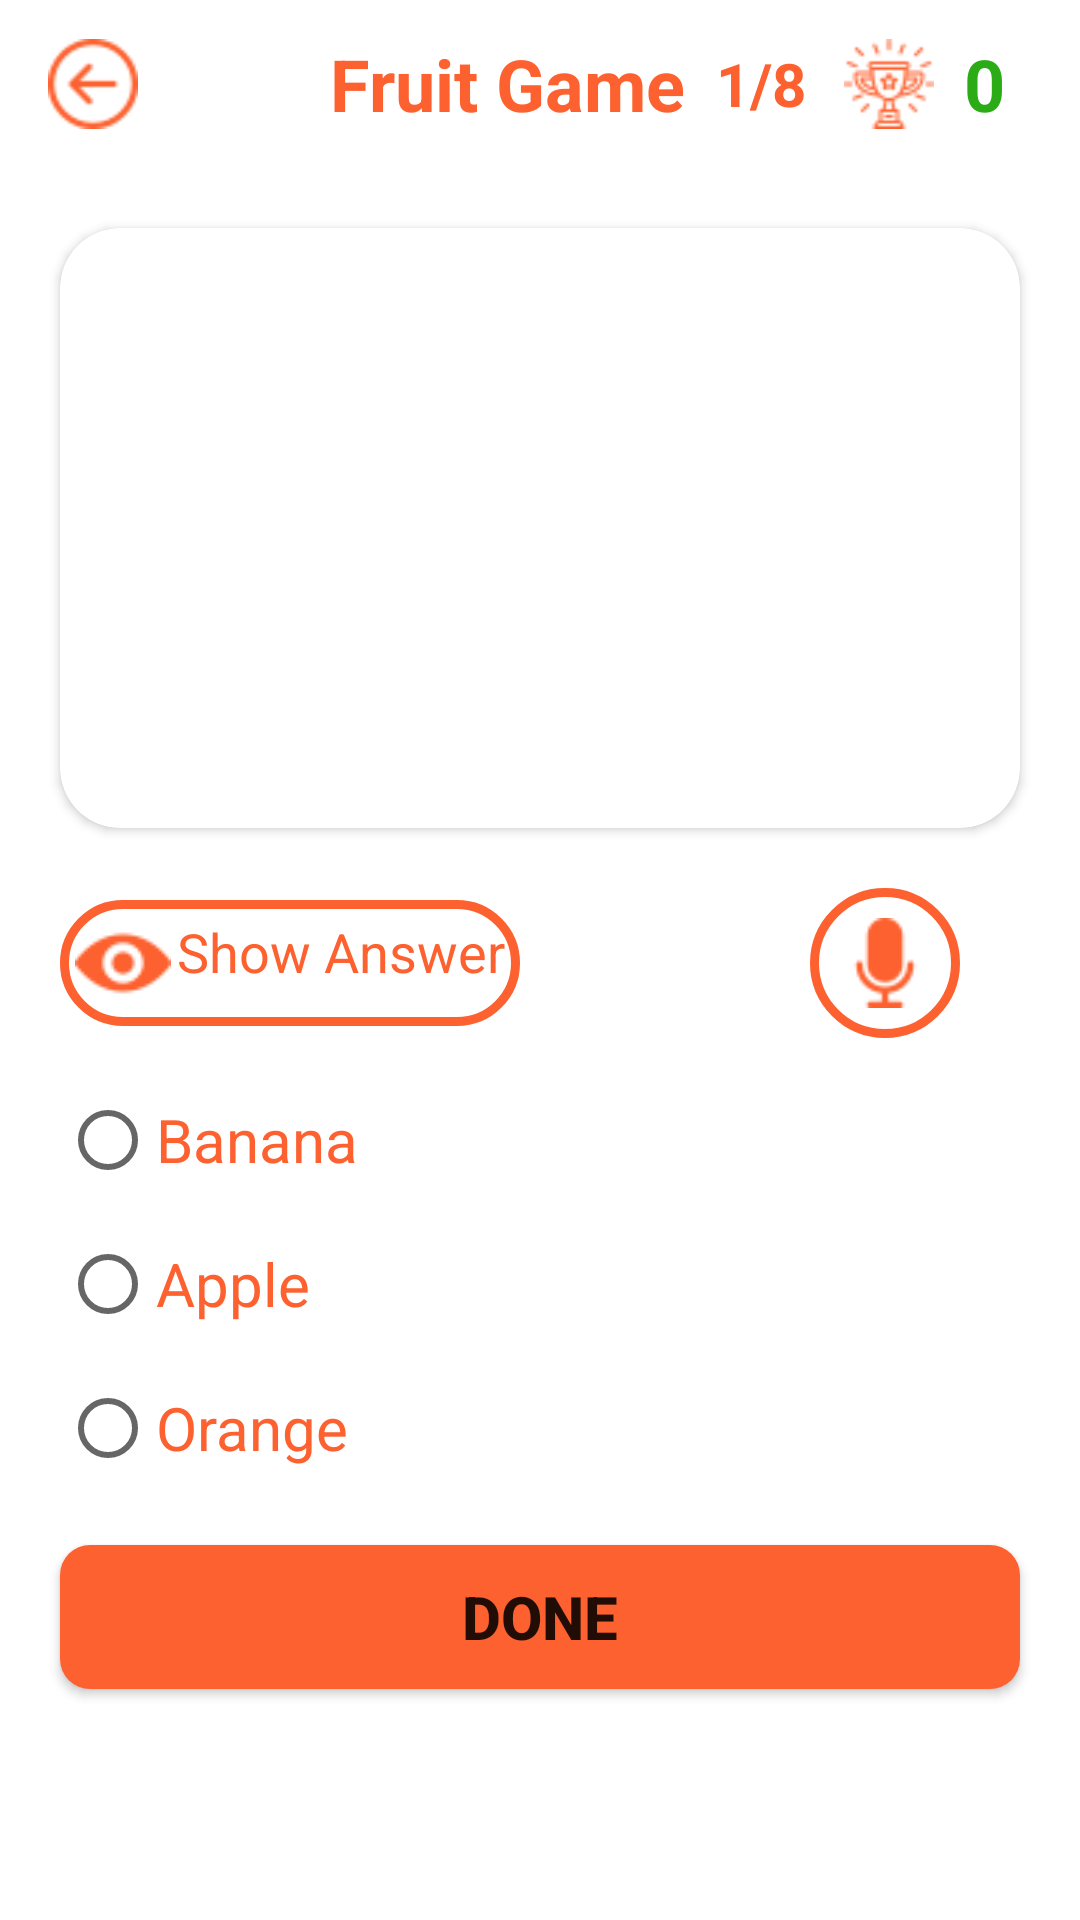

Icon click points for this 1080*1920 phone screenshot, format (x,y):
back: (93,84)
microphone: (885,963)
score: (889,84)
